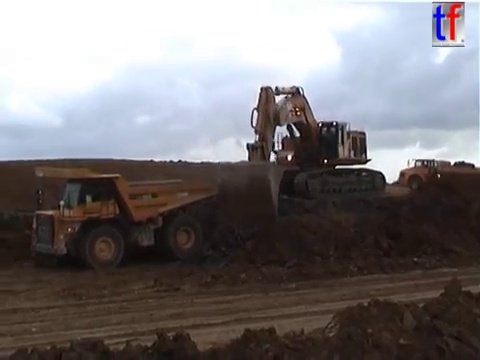excavator: (213, 82, 388, 222)
truck: (23, 165, 219, 272), (396, 156, 480, 192)
